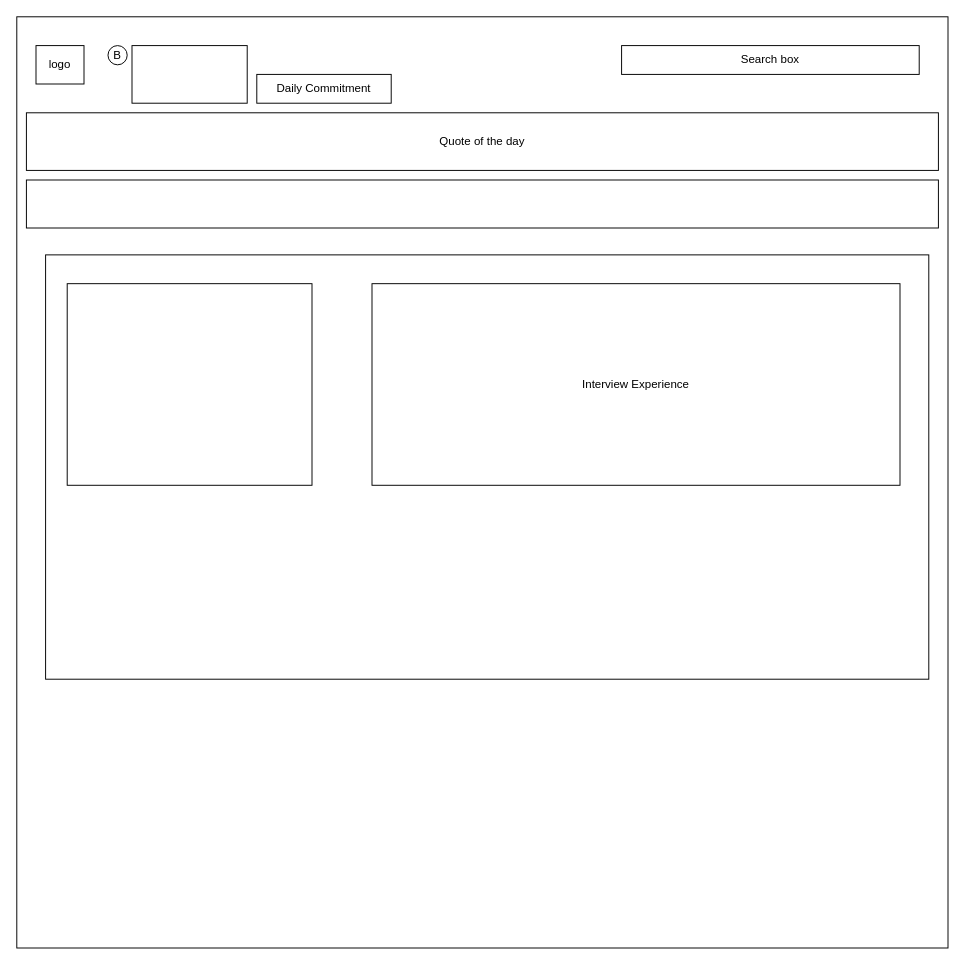
This 965x965 diagram has some shape labels left out. The centre of each missing label's shape, as x and y in pixels:
Learn a new thing today: the point at 481,203
Name: the point at 189,74
PSCA Grafana - graph: the point at 189,384
